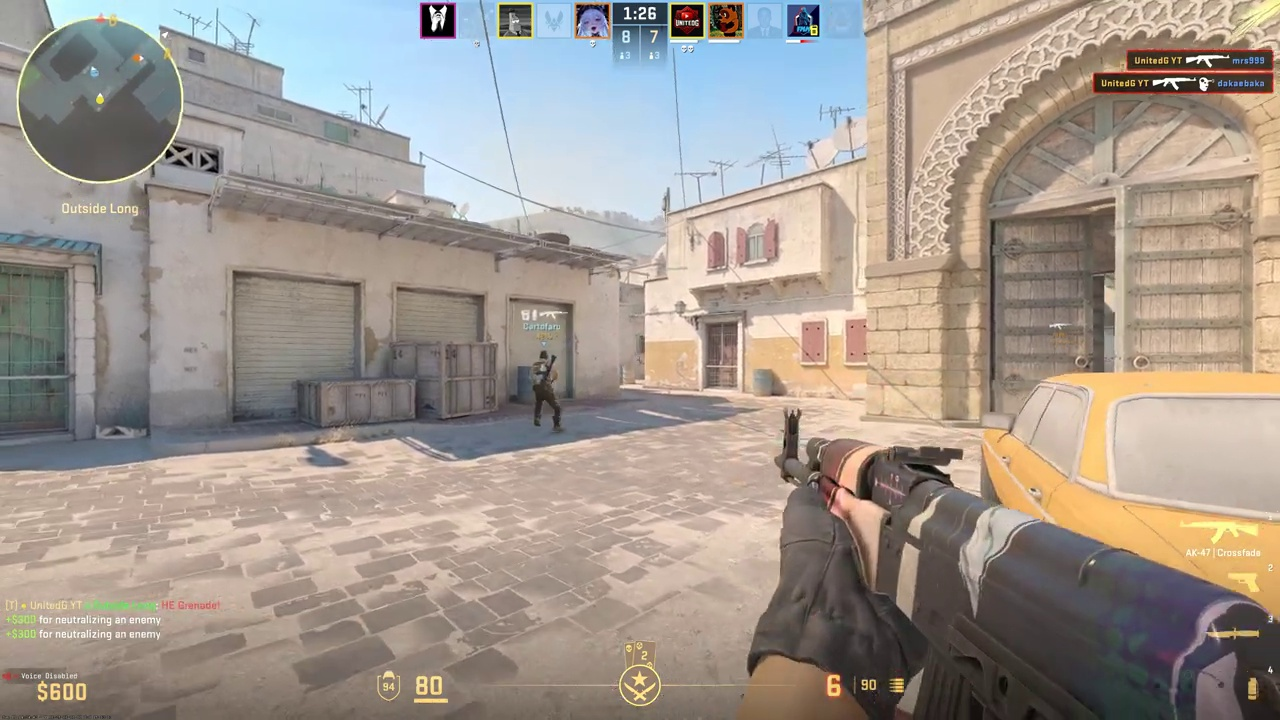Terrorist: (532, 350, 561, 433)
